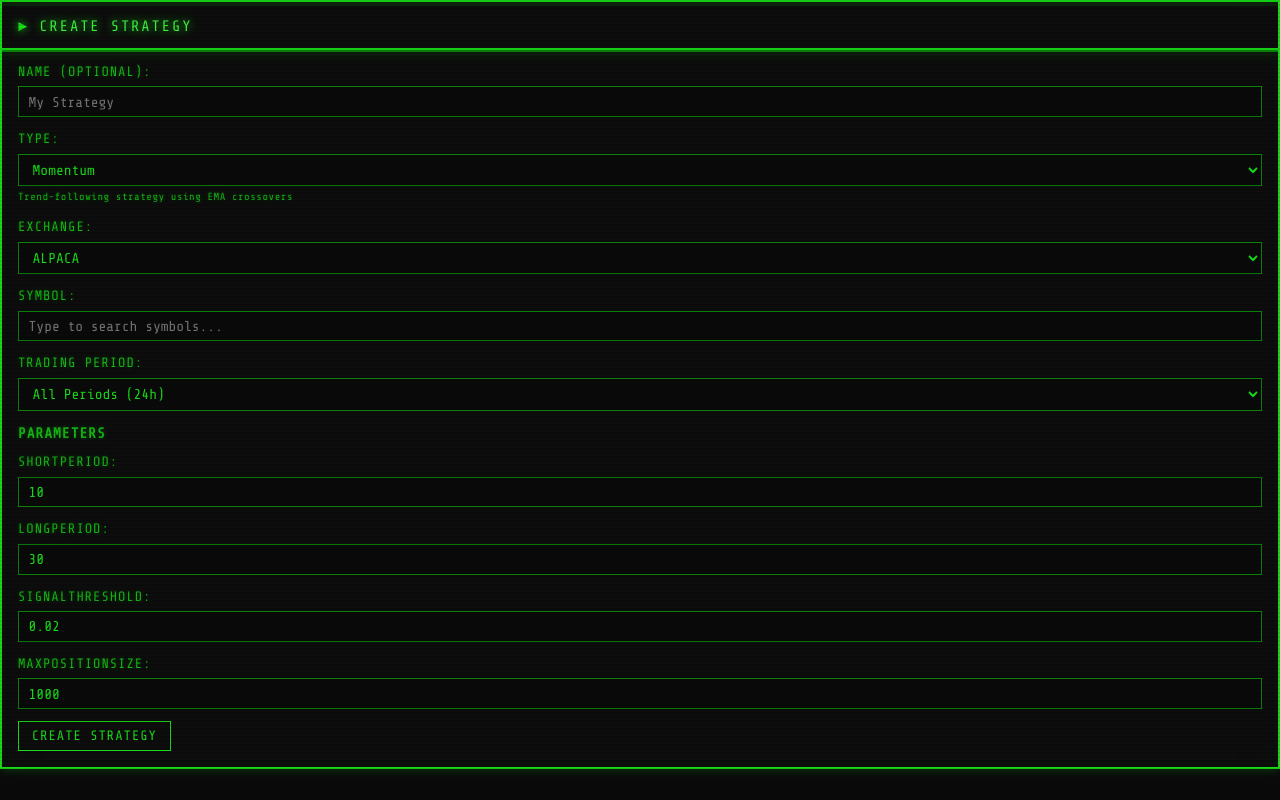
StrategyForm › loads symbols when exchange is selected
// Focus on symbol input to show dropdown
What coordinates should you click on to do the following:
click the field with placeholder "Type to search symbols..."
I would click on:
 (640, 326)
Its box is [18,311,1262,342].
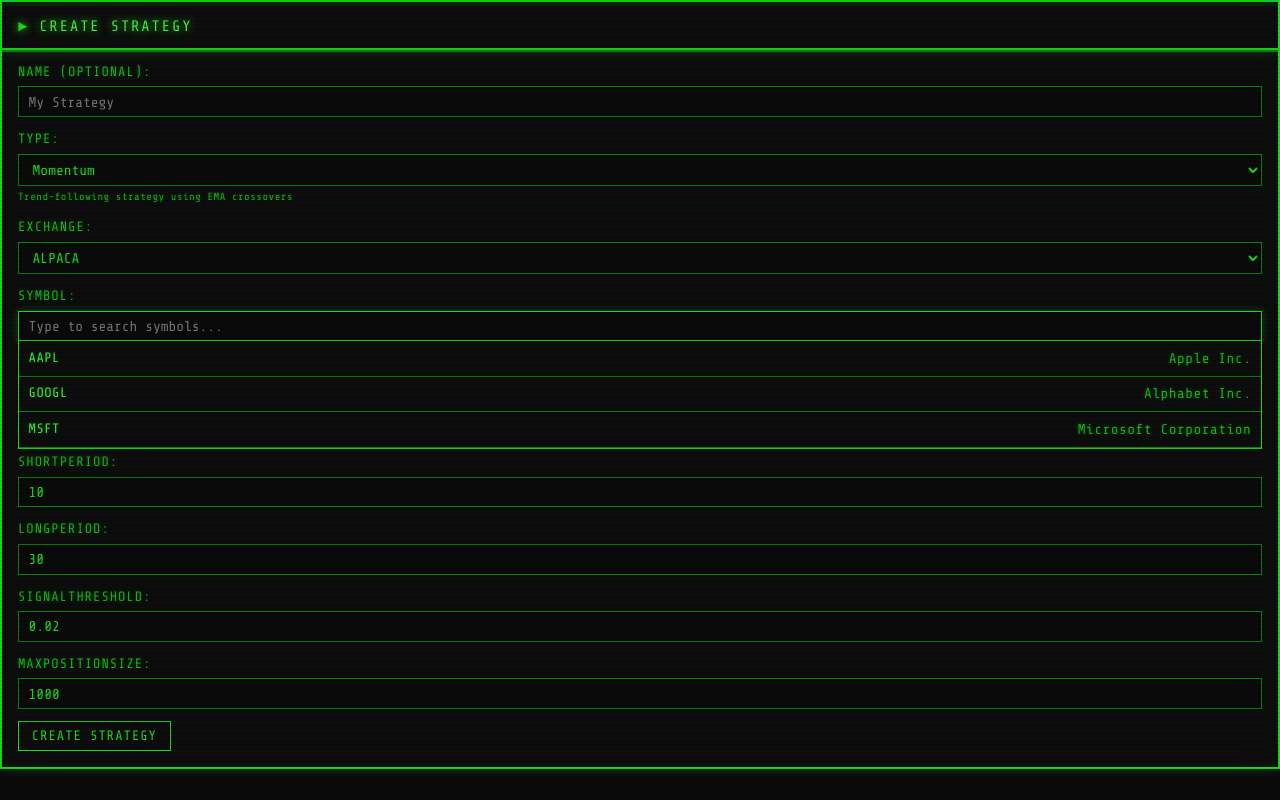
Now the text "AAPL" is shown, box [29,348,60,370]
Now the text "Apple Inc." is shown, box [1169,348,1251,370]
